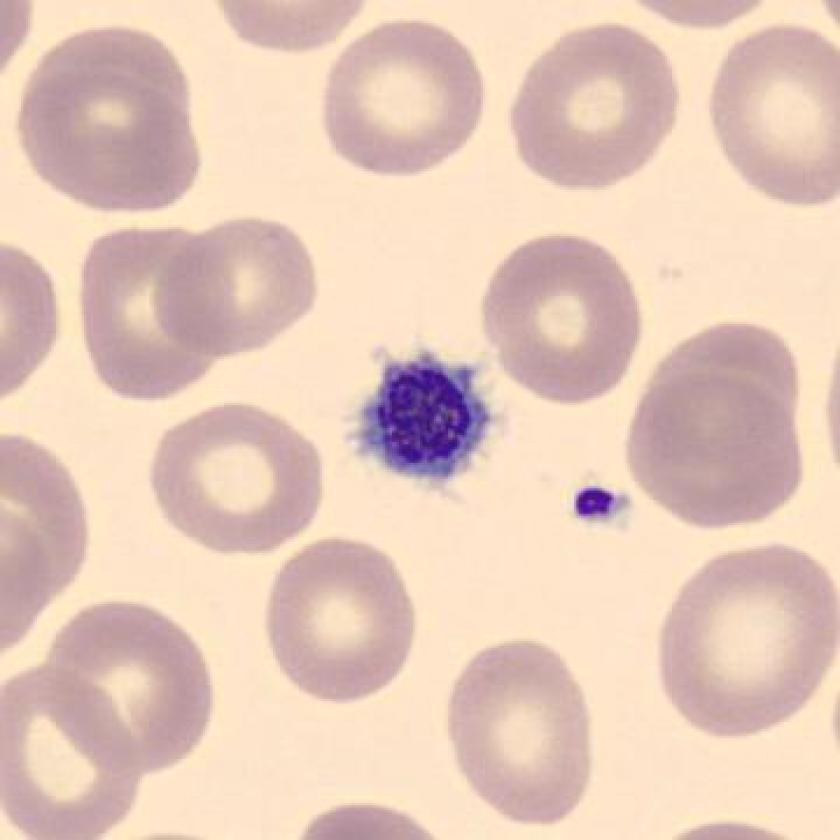platelets: (351, 346, 500, 496), (561, 480, 633, 536)
